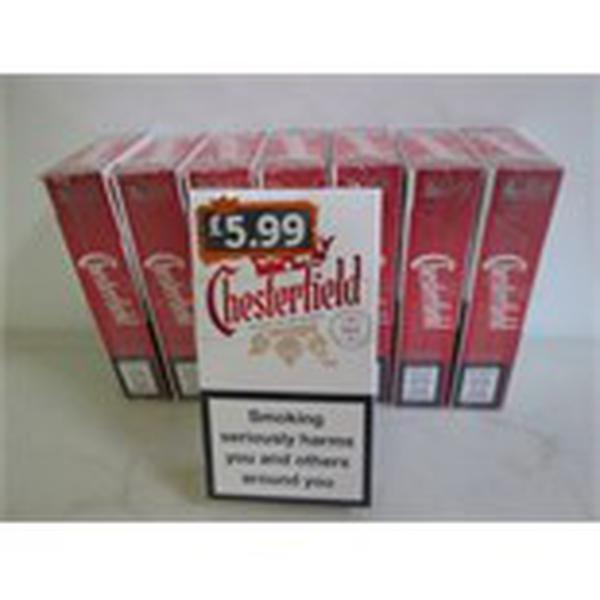chesterfield_red: (205, 191, 377, 492)
